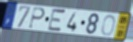4: (66, 11, 78, 34)
7: (17, 4, 32, 30)
8: (86, 13, 100, 35)
E: (46, 7, 67, 34)
O: (101, 14, 117, 37)
P: (28, 7, 47, 31)
